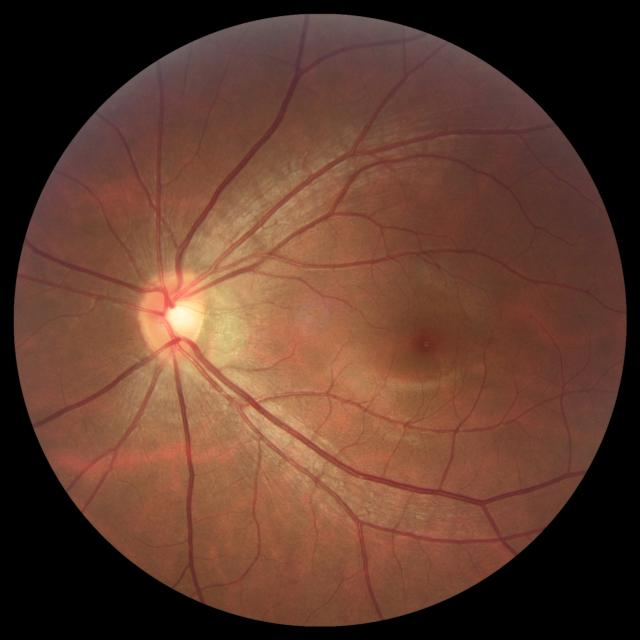OC: (161, 298, 195, 334)
OD: (141, 271, 207, 361)
